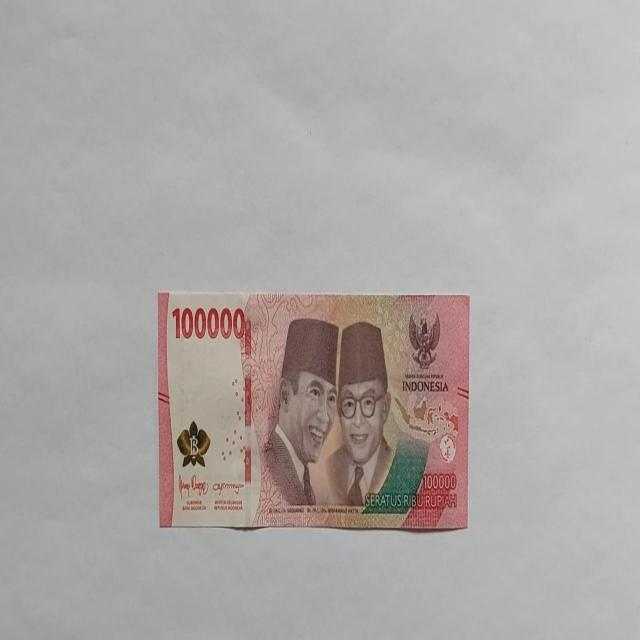Kertas: (157, 290, 471, 532), (171, 304, 246, 341)
